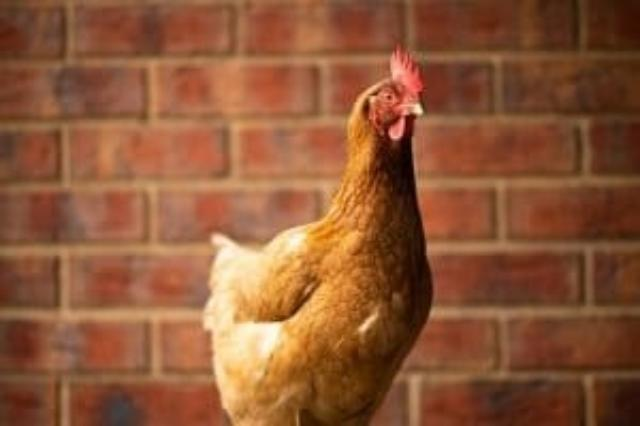Chicken: (200, 47, 433, 426)
